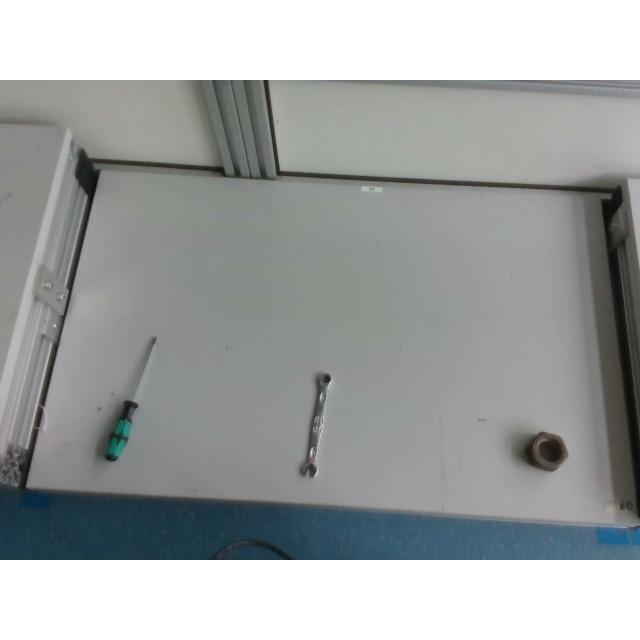M30: (526, 432, 570, 472)
Screwdriver: (104, 335, 158, 461)
Wrench: (300, 372, 332, 476)
